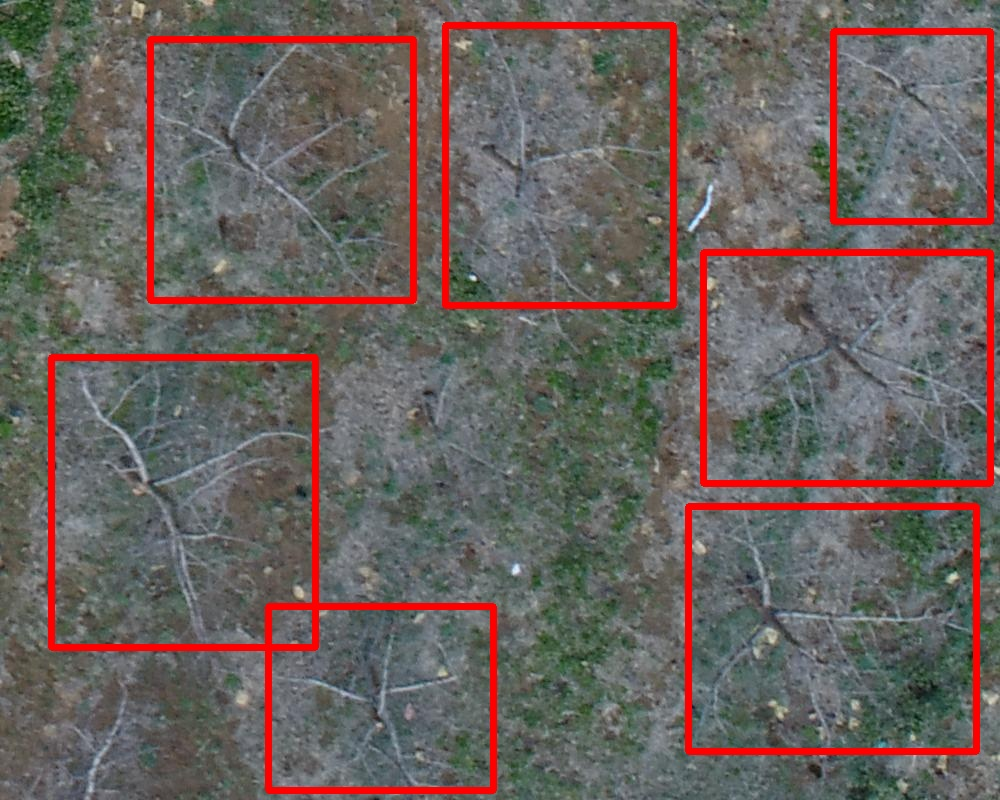apple: (51, 357, 315, 647), (688, 506, 976, 751), (150, 39, 413, 300), (703, 252, 990, 483), (445, 25, 673, 305), (268, 606, 493, 790), (833, 31, 990, 221)
